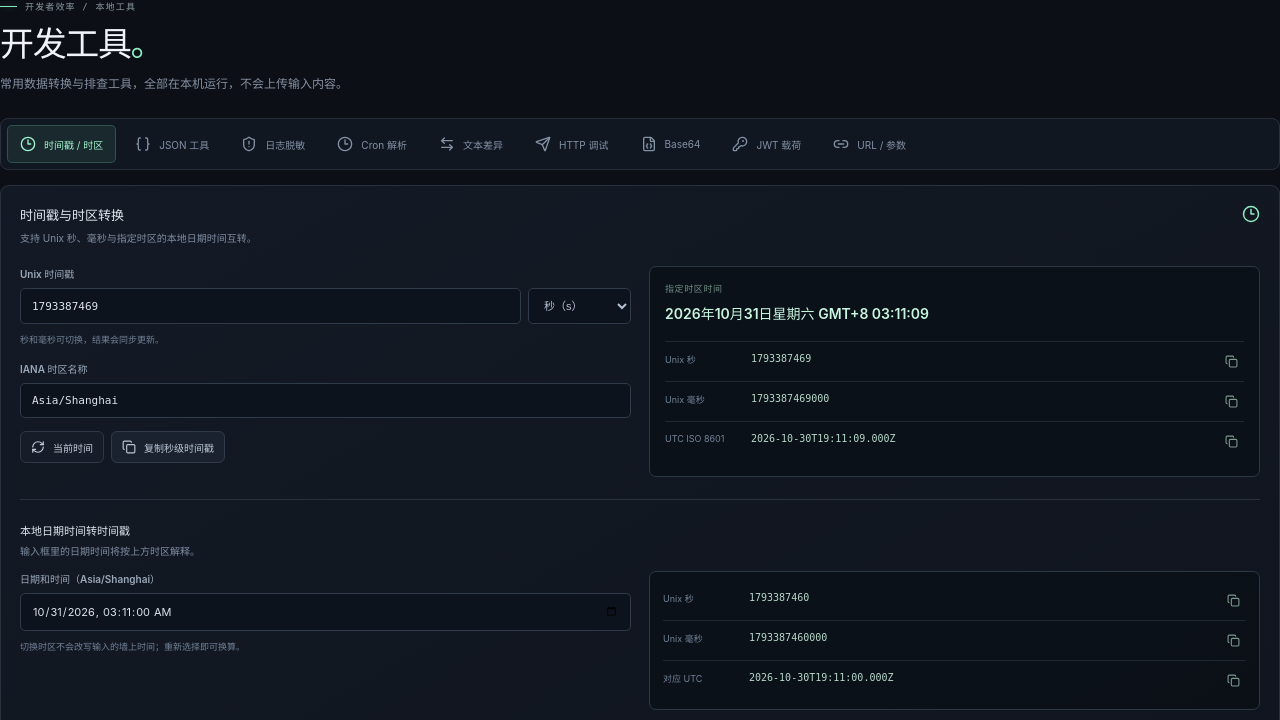
HTTP debugger panel › renders status, timing and received bytes from the backend response
Click the tab with class "toolkit-tab" showing "HTTP 调试".
click(572, 144)  # box left=522, top=125, right=622, bottom=163
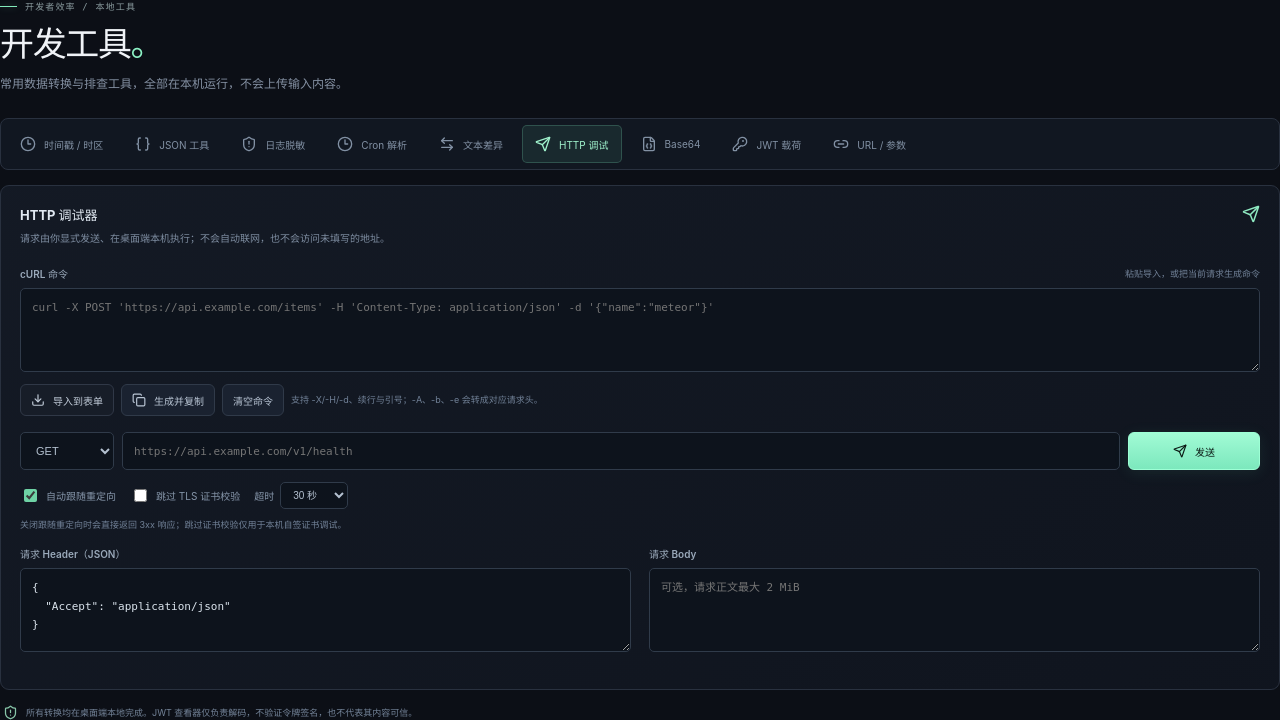
Type " https://example.com/items " into the field named "请求 URL".
click(621, 451); type(" https://example.com/items ")  # box left=122, top=432, right=1120, bottom=470
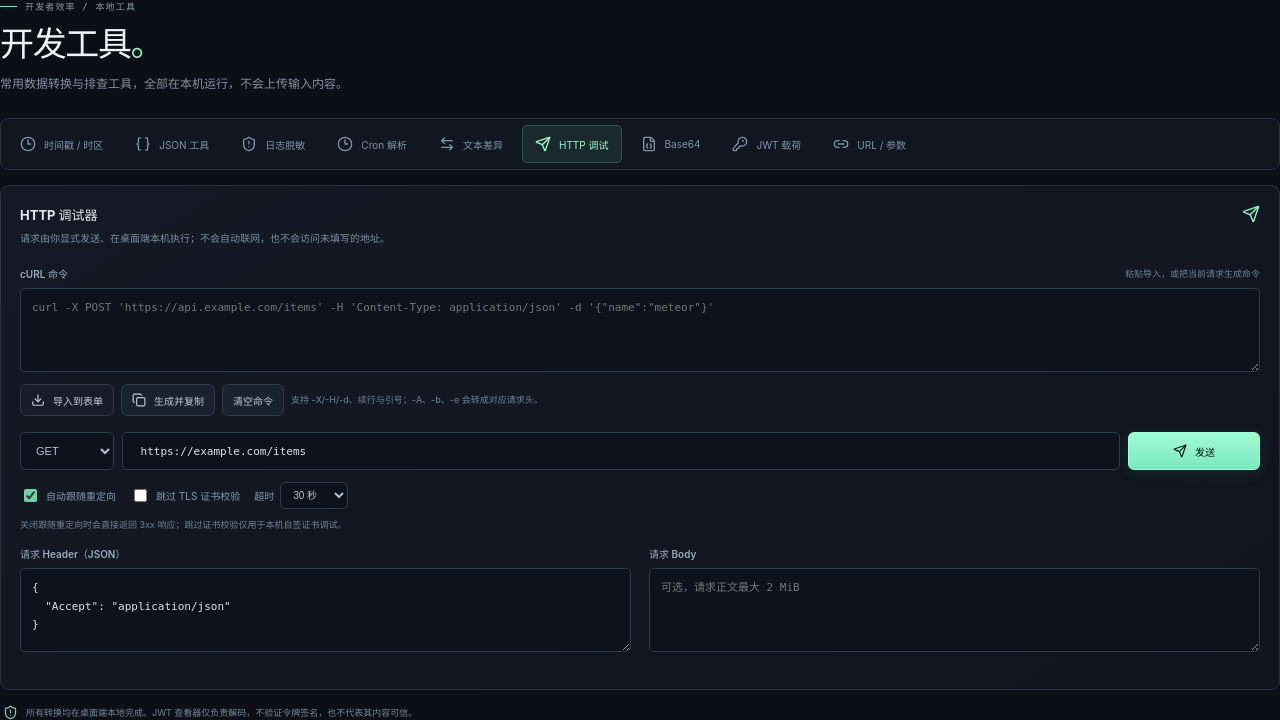
Click the button "发送".
click(1194, 451)  # box left=1128, top=432, right=1260, bottom=470
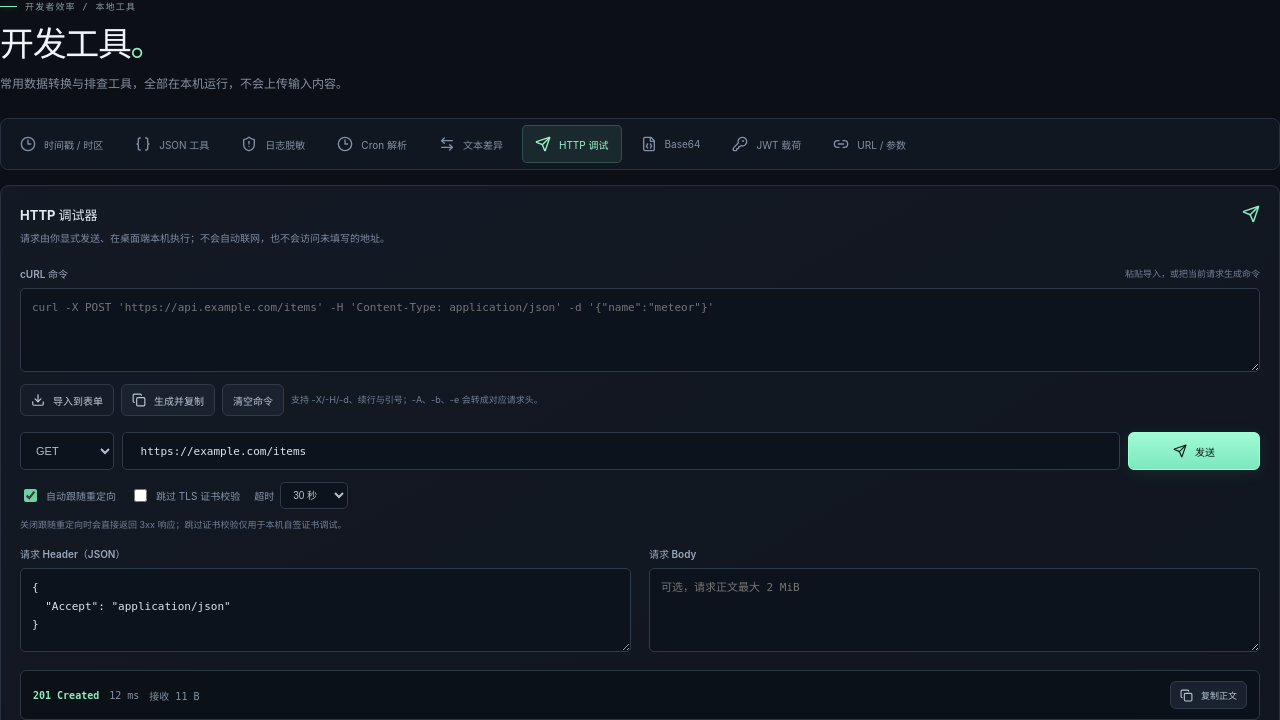
Check: the element with class "http-response-summary" is shown, box left=20, top=670, right=1260, bottom=719
Check: the element with class "http-response-summary" shows "201 Created", box left=33, top=690, right=99, bottom=701
Check: the element with class "http-response-summary" shows "12 ms", box left=109, top=690, right=139, bottom=701
